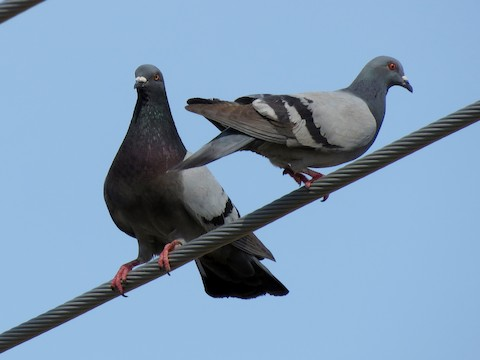pigeon: (95, 61, 297, 313), (184, 49, 423, 203)
